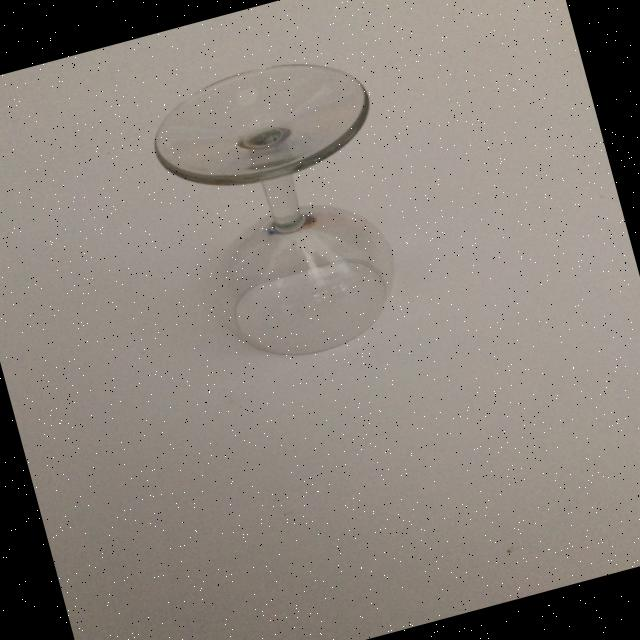glass: (140, 41, 430, 380)
